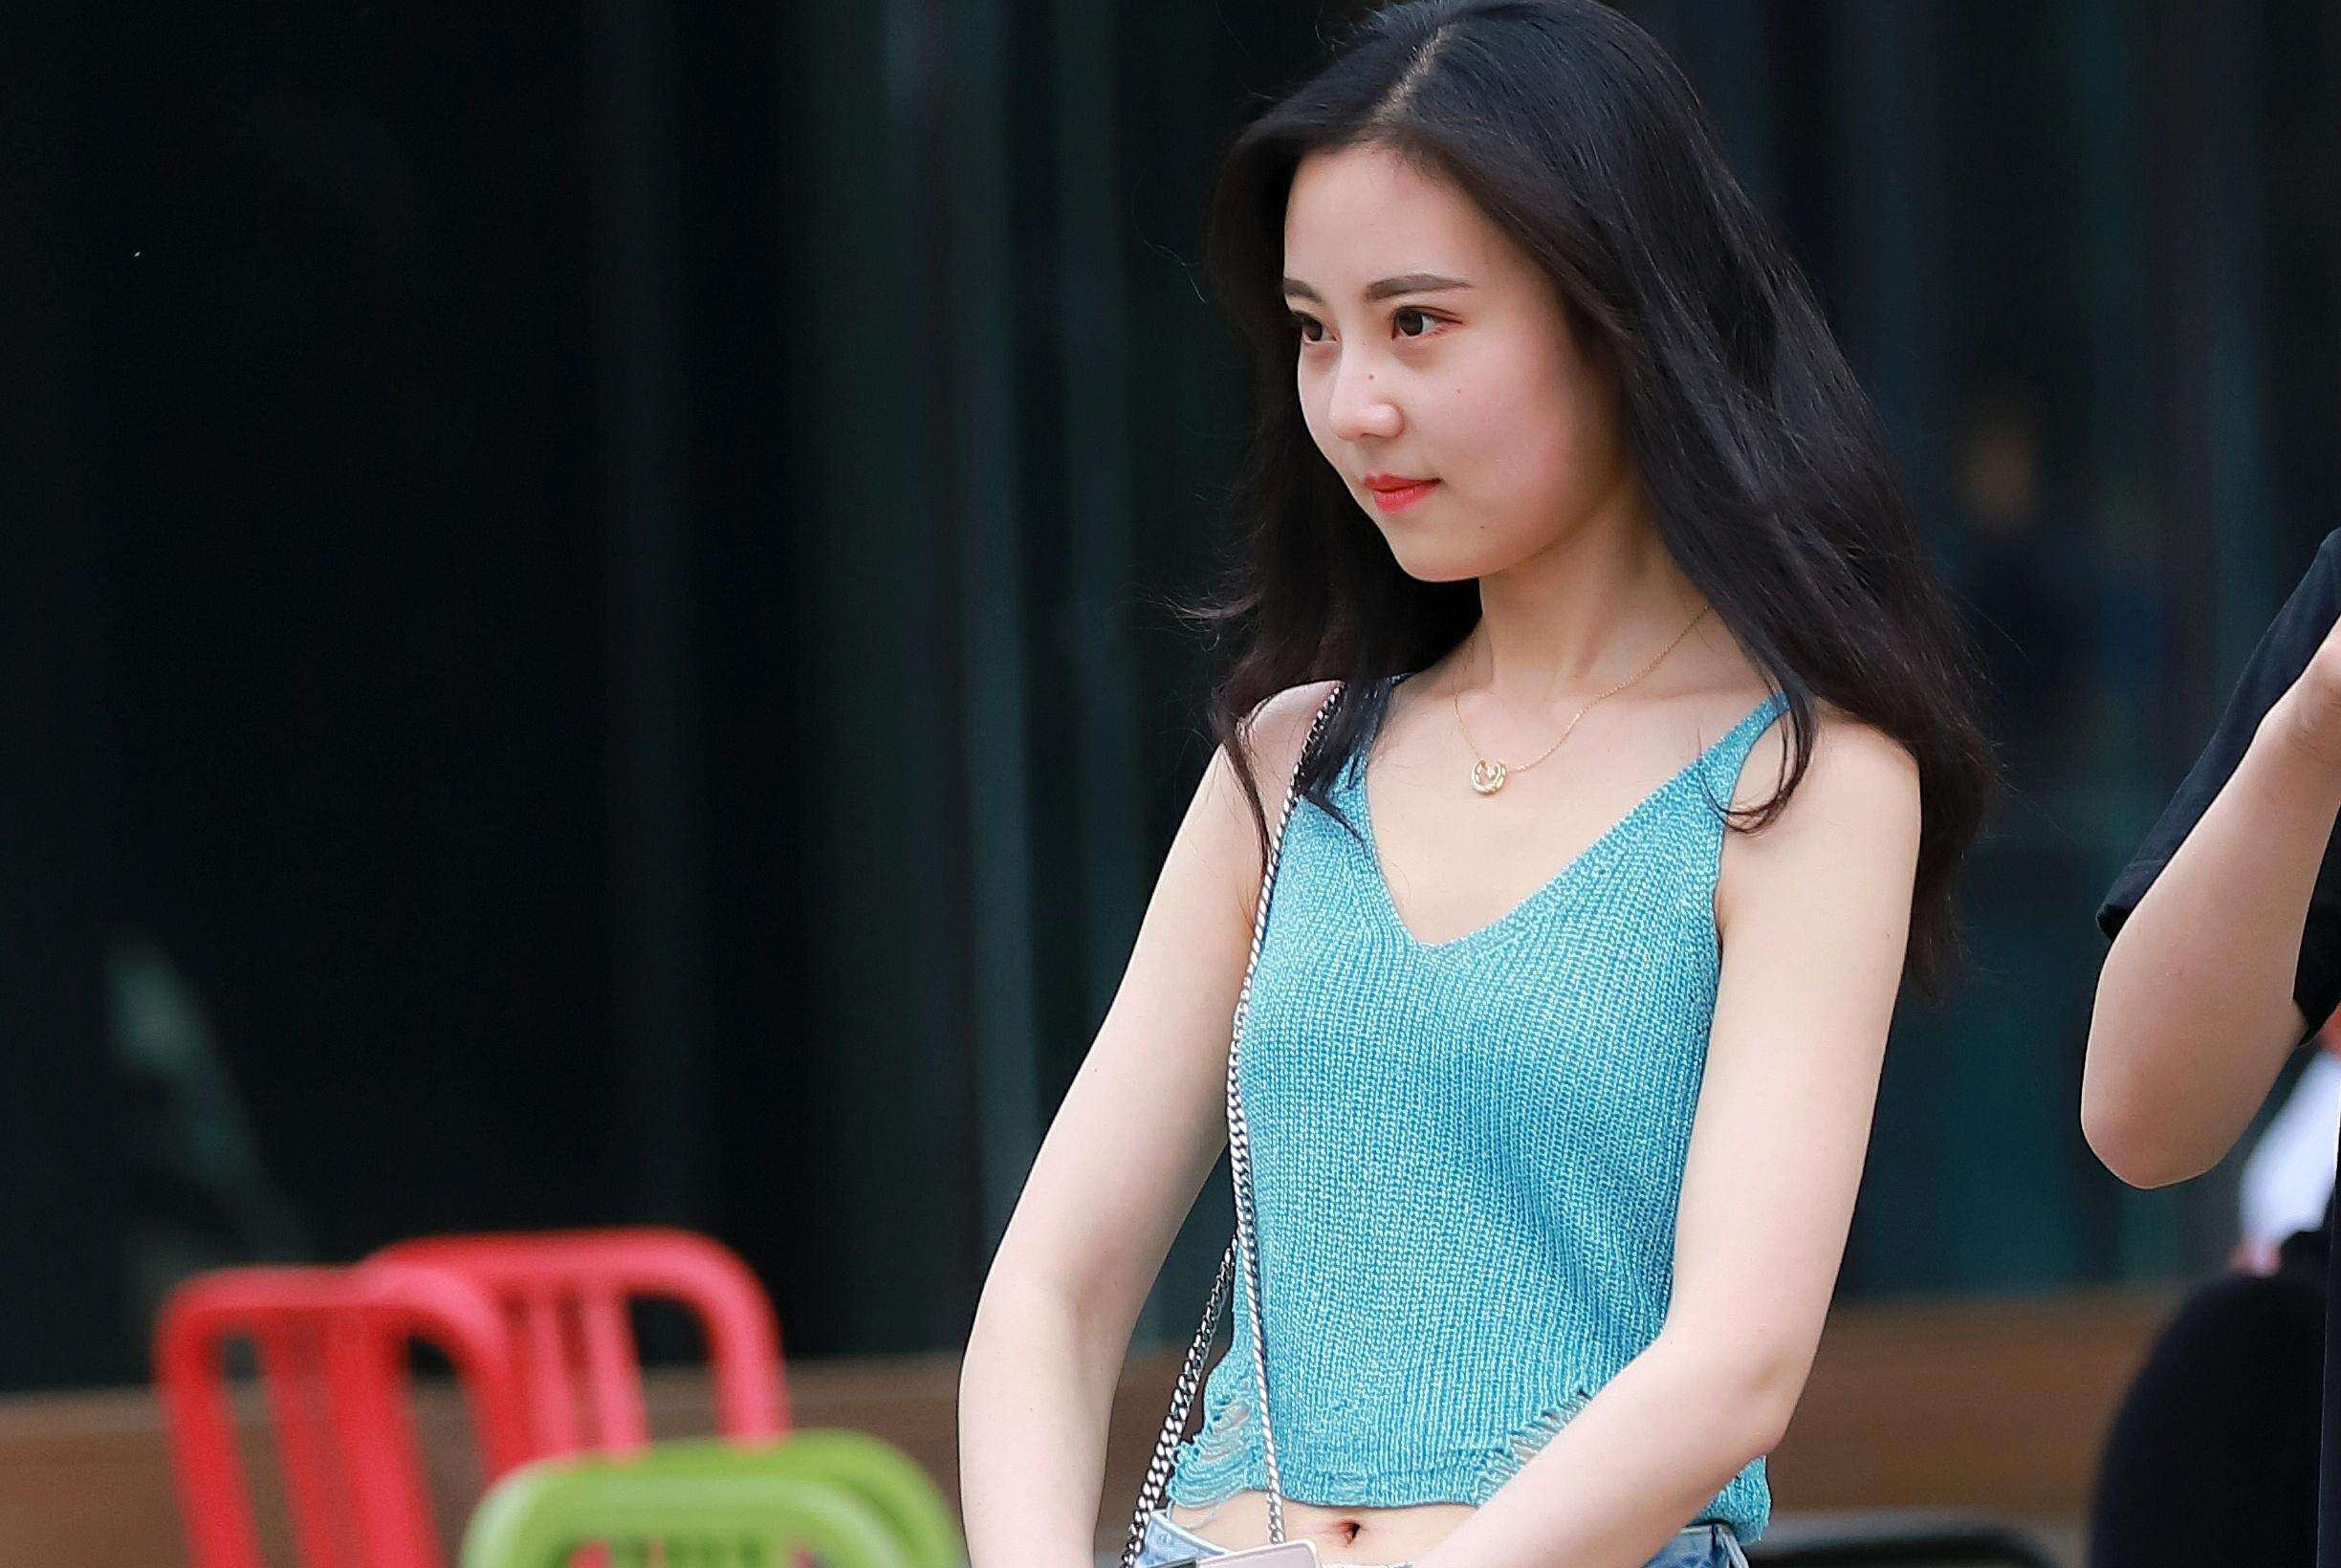person: (985, 29, 2022, 1526)
